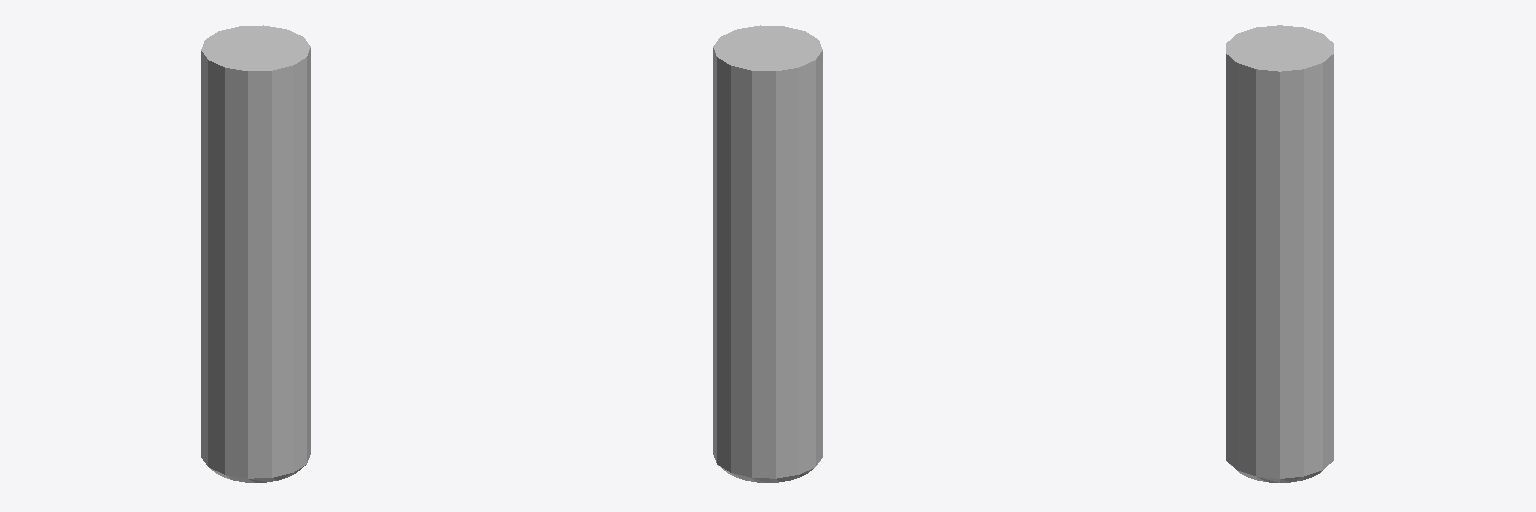
Rendered from ideas_gear_holder1.obj.
The picture shows the model from 3 angles: view 1: azimuth 30°, elevation 25°; view 2: azimuth 150°, elevation 25°; view 3: azimuth 270°, elevation 25°; orthographic projection.
Parts seen in each view (by area): view 1: 1; view 2: 1; view 3: 1.
Part boxes in pixels (x1,y1,x2,y2): 1: (201,25,310,482); 1: (713,25,822,482); 1: (1226,25,1333,482).
Bounding box in the file's own units: 12.7 × 52.94 × 12.38.